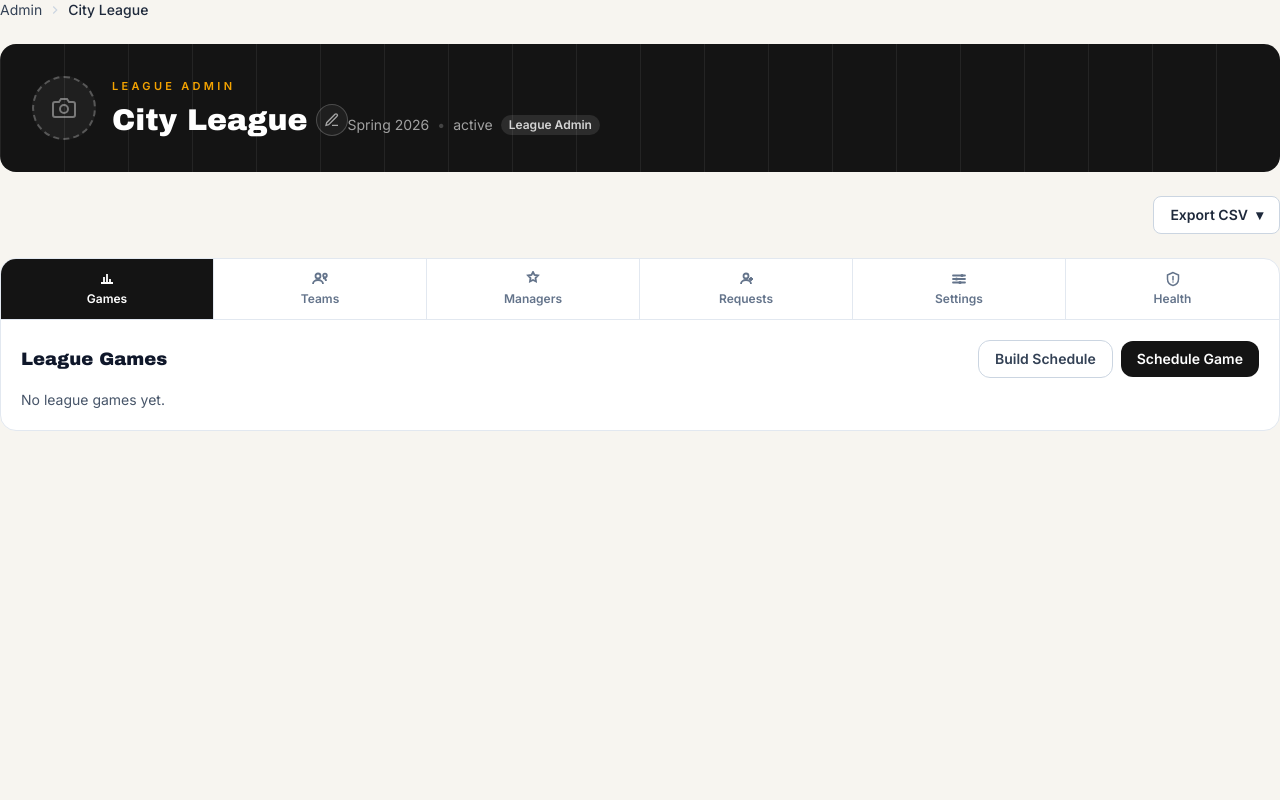
AdminLeaguePage › hides the Complete Season control from a non-owner league manager
Click the tab "Settings" at x=960, y=289, box [853,259,1066,319]
(page scrolled)
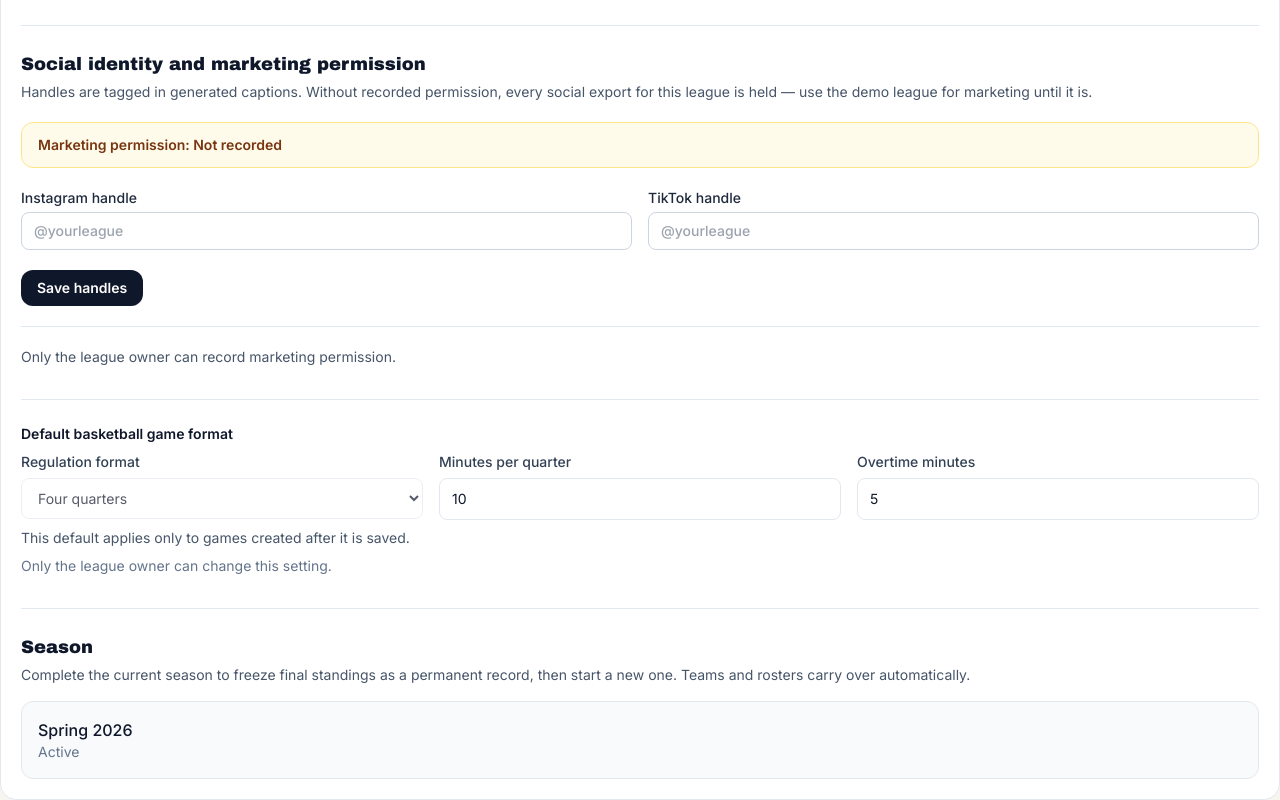
expect the heading "Season" is shown: met, box [21,637,93,657]
